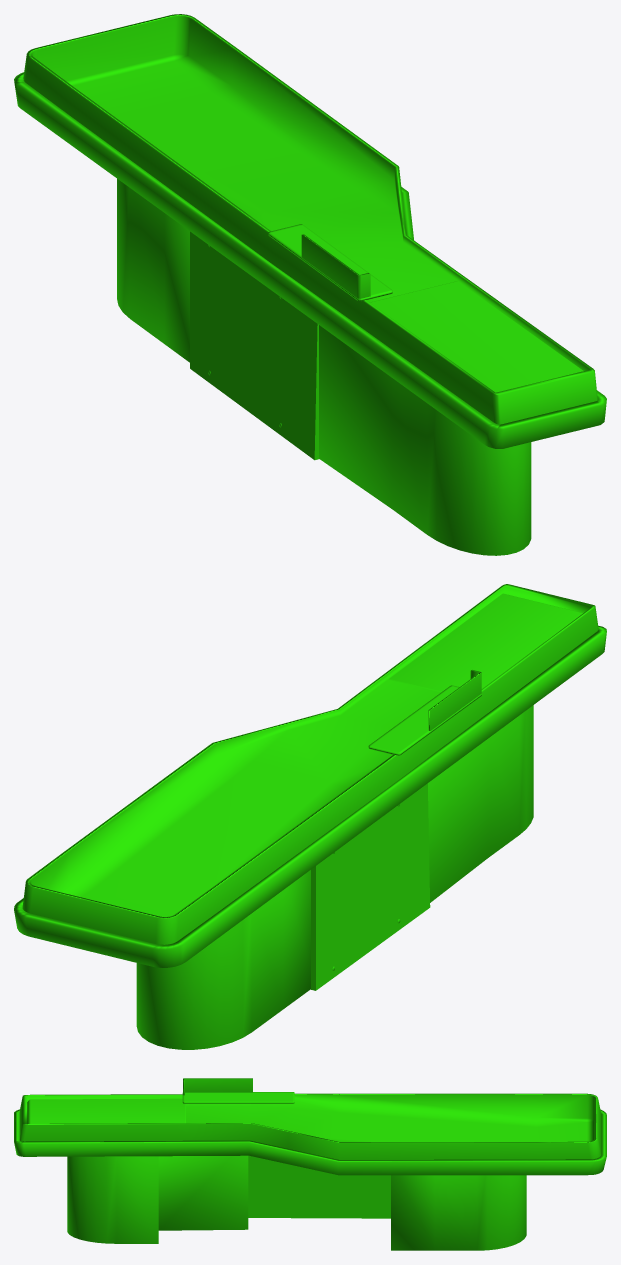
The model's file is Supermarket_Checkout_Lod0.fbx.
The picture shows the model from 3 angles, top to bottom: view 1: azimuth 30°, elevation 25°; view 2: azimuth 150°, elevation 25°; view 3: azimuth 270°, elevation 25°; orthographic projection. The views are drawn at different scales.
Visible parts, largest first — view 1: Supermarket_Checkout_Lod0; view 2: Supermarket_Checkout_Lod0; view 3: Supermarket_Checkout_Lod0.
Part boxes in pixels (x1,y1,x2,y2): Supermarket_Checkout_Lod0: (14, 14, 606, 555); Supermarket_Checkout_Lod0: (14, 584, 606, 1049); Supermarket_Checkout_Lod0: (14, 1078, 606, 1250).
Bounding box in the file's own units: 84.58 × 97.4 × 386.
